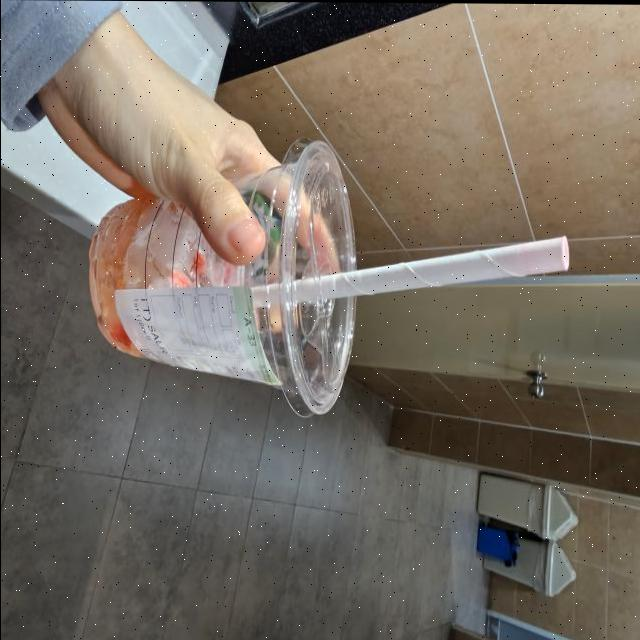cup: (80, 128, 370, 422)
